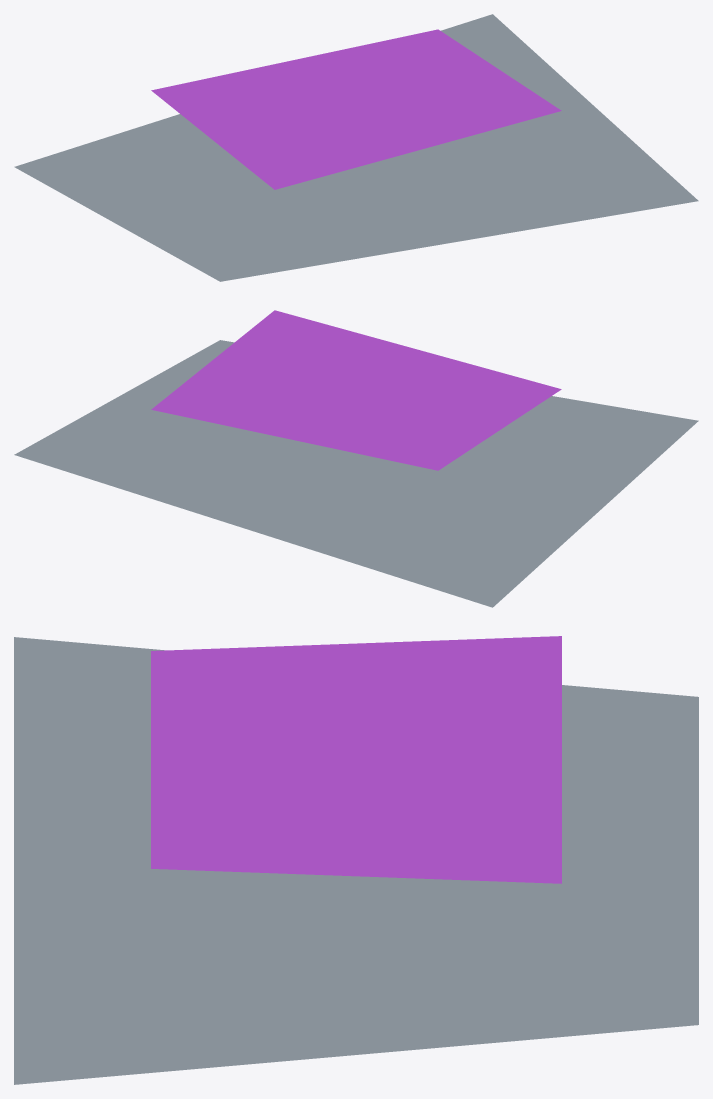
Rendered from CH_GapInterceptor_LOD2.glb.
3 renders of one model, top to bottom at view 1: azimuth 30°, elevation 25°; view 2: azimuth 150°, elevation 25°; view 3: azimuth 270°, elevation 25°, orthographic. The views are drawn at different scales.
Parts seen in each view (by area): view 1: EntranceGate; view 2: EntranceGate; view 3: EntranceGate.
Boxes of the visible parts, x1=… form: EntranceGate: x1=14, y1=14, x2=698, y2=281; EntranceGate: x1=14, y1=310, x2=698, y2=607; EntranceGate: x1=14, y1=636, x2=698, y2=1084.
Bounding box in the file's own units: 630 × 105 × 470.
